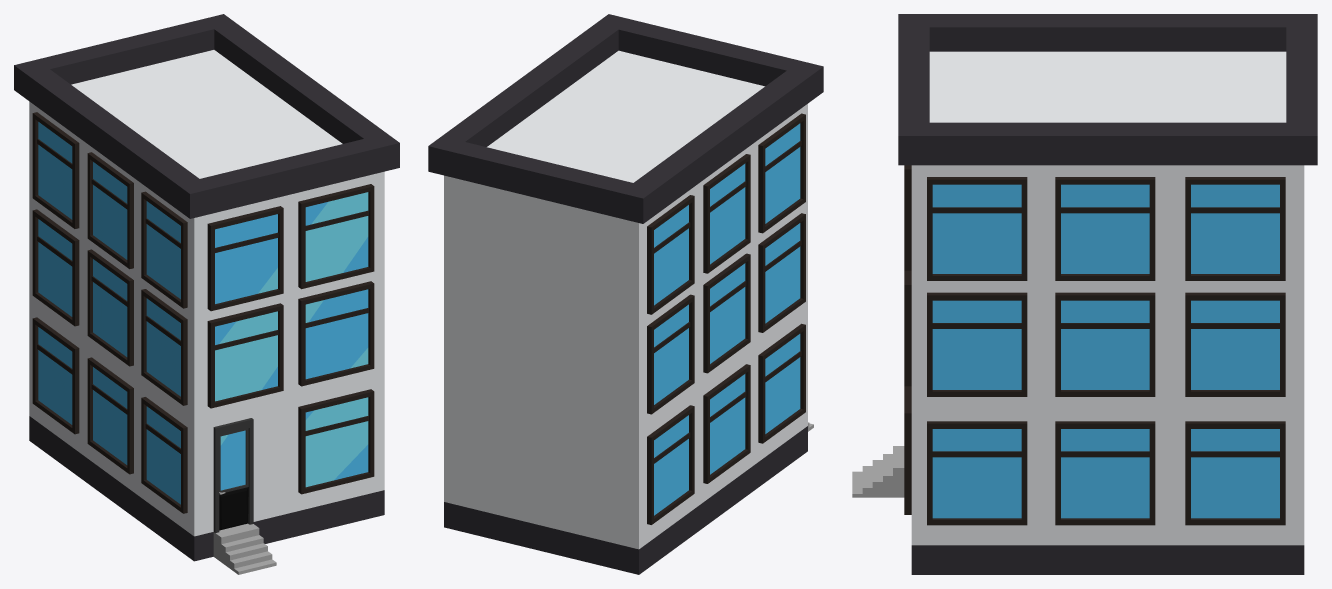
File: Env_CompanyBuilding_01.fbx
3 views of the same model, side by side, from view 1: azimuth 30°, elevation 25°; view 2: azimuth 150°, elevation 25°; view 3: azimuth 270°, elevation 25° (orthographic). The views are drawn at different scales.
Parts seen in each view (by area): view 1: Env_CompanyBuilding_01; view 2: Env_CompanyBuilding_01; view 3: Env_CompanyBuilding_01.
Boxes of the visible parts, x1,y1,x2,y2 form: Env_CompanyBuilding_01: [14, 14, 399, 574]; Env_CompanyBuilding_01: [428, 14, 823, 574]; Env_CompanyBuilding_01: [852, 14, 1317, 574].
Bounding box in the file's own units: 575 × 978 × 927.
